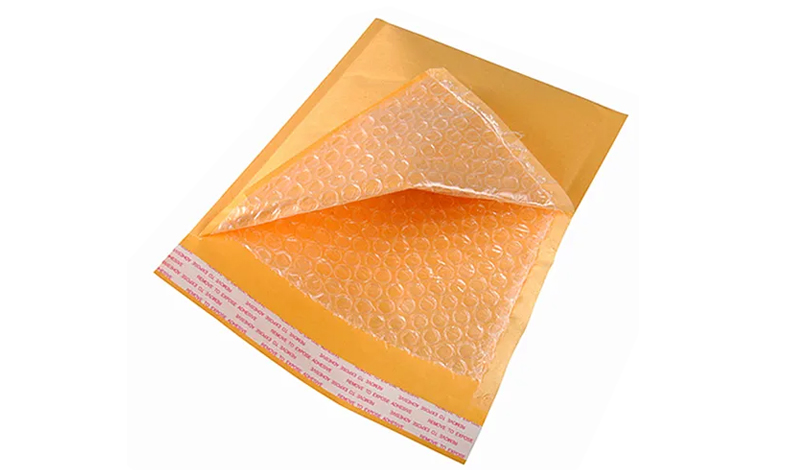塑料袋: (155, 19, 625, 462)
